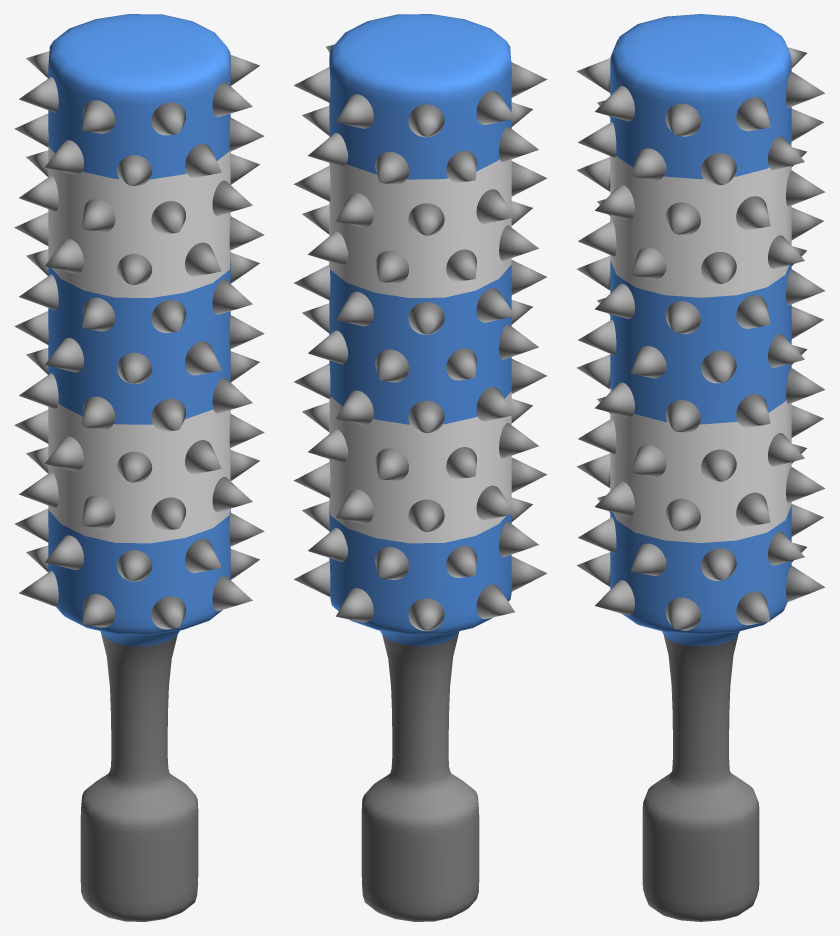
Rendered from blue-spike-trap.glb.
The picture shows the model from 3 angles, left to right: view 1: azimuth 30°, elevation 25°; view 2: azimuth 150°, elevation 25°; view 3: azimuth 270°, elevation 25°; orthographic projection.
Visible parts, largest first — view 1: Trap_spike_tall_blue.001; view 2: Trap_spike_tall_blue.001; view 3: Trap_spike_tall_blue.001.
Part boxes in pixels (x1,y1,x2,y2): Trap_spike_tall_blue.001: [14, 14, 264, 921]; Trap_spike_tall_blue.001: [293, 14, 547, 921]; Trap_spike_tall_blue.001: [576, 14, 825, 921].
Size of the model in its own units: 0.3434 by 1.31 by 0.3434.
Materials: 1 (1 with a texture image).
